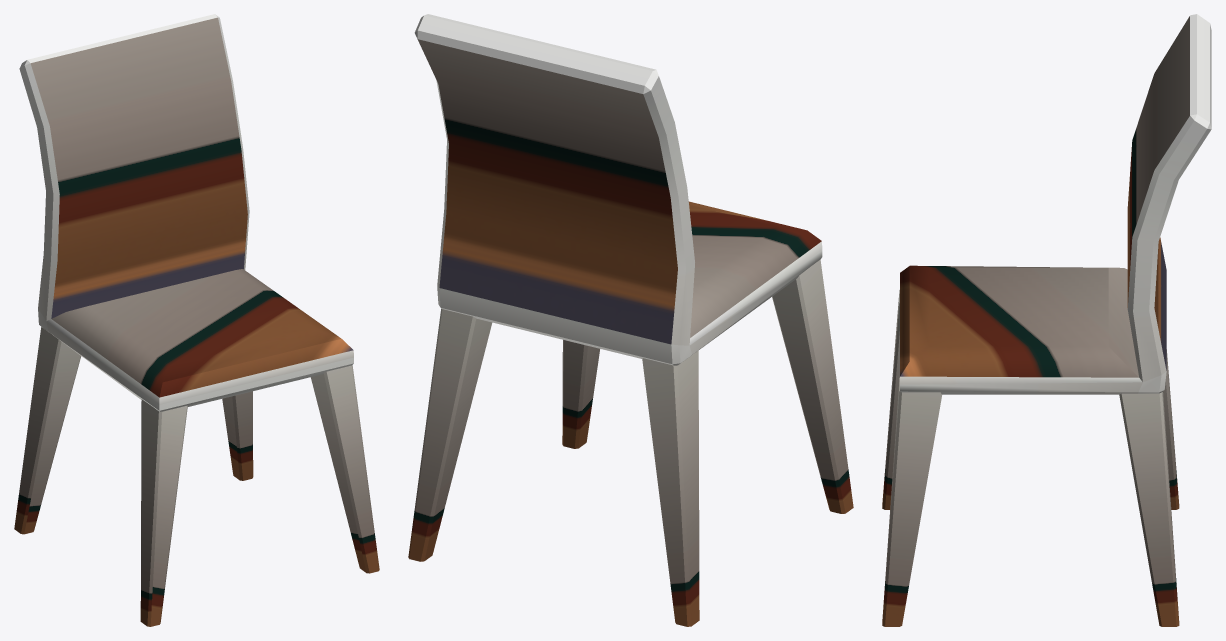
The model's file is Chair2.fbx.
The picture shows the model from 3 angles, left to right: view 1: azimuth 30°, elevation 25°; view 2: azimuth 150°, elevation 25°; view 3: azimuth 270°, elevation 25°; orthographic projection. The views are drawn at different scales.
Visible parts, largest first — view 1: Box003; view 2: Box003; view 3: Box003.
Boxes of the visible parts, box(x1,y1,x2,y2) form: Box003: box(14, 14, 379, 626); Box003: box(408, 14, 853, 626); Box003: box(882, 14, 1211, 626).
Bounding box in the file's own units: 42.42 × 79.76 × 47.53.
